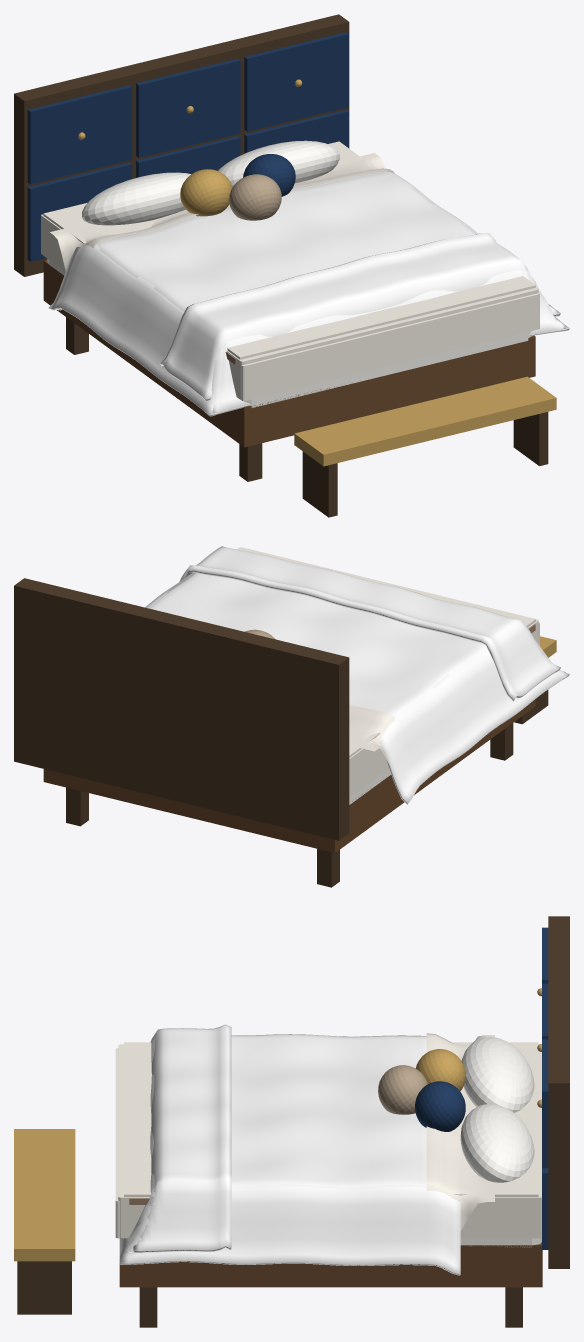
The model's file is bed.glb.
The picture shows the model from 3 angles, top to bottom: view 1: azimuth 30°, elevation 25°; view 2: azimuth 150°, elevation 25°; view 3: azimuth 270°, elevation 25°; orthographic projection. The views are drawn at different scales.
Visible parts, largest first — view 1: headboard, duvet, duvet_flap, bed_frame, fitted_sheet, bench, duvet_reverse, top_sheet, pillowcase_left, mattress, pillowcase_right, cushion_center (+2 smaller); view 2: headboard, duvet, duvet_flap, duvet_reverse, bed_frame, top_sheet, fitted_sheet, bench; view 3: duvet, duvet_reverse, duvet_flap, bed_frame, bench, top_sheet, headboard, fitted_sheet, pillowcase_right, pillowcase_left, cushion_right, cushion_center (+2 smaller).
Boxes of the visible parts, left/top/right/bottom form: headboard: left=14, top=14, right=349, bottom=276; duvet: left=56, top=172, right=565, bottom=413; duvet_flap: left=159, top=233, right=560, bottom=401; bed_frame: left=43, top=260, right=535, bottom=481; fitted_sheet: left=41, top=214, right=539, bottom=401; bench: left=294, top=376, right=556, bottom=517; duvet_reverse: left=48, top=171, right=569, bottom=416; top_sheet: left=43, top=141, right=535, bottom=359; pillowcase_left: left=82, top=172, right=191, bottom=225; mattress: left=47, top=259, right=531, bottom=407; pillowcase_right: left=218, top=140, right=339, bottom=187; cushion_center: left=229, top=174, right=281, bottom=220; headboard: left=14, top=578, right=349, bottom=840; duvet: left=149, top=572, right=565, bottom=716; duvet_flap: left=179, top=546, right=560, bottom=701; duvet_reverse: left=145, top=572, right=569, bottom=804; bed_frame: left=43, top=699, right=535, bottom=887; top_sheet: left=237, top=547, right=535, bottom=766; fitted_sheet: left=245, top=548, right=539, bottom=797; bench: left=514, top=636, right=556, bottom=724; duvet: left=120, top=1034, right=444, bottom=1269; duvet_reverse: left=119, top=1034, right=460, bottom=1275; duvet_flap: left=133, top=1024, right=231, bottom=1252; bed_frame: left=119, top=1242, right=542, bottom=1327; bench: left=14, top=1129, right=75, bottom=1314; top_sheet: left=124, top=1033, right=538, bottom=1230; headboard: left=537, top=916, right=569, bottom=1268; fitted_sheet: left=115, top=1044, right=541, bottom=1238; pillowcase_right: left=460, top=1104, right=534, bottom=1182; pillowcase_left: left=461, top=1037, right=534, bottom=1112; cushion_right: left=415, top=1081, right=465, bottom=1131; cushion_center: left=378, top=1065, right=427, bottom=1114.
Size of the model in its own units: 3.21 by 2.1 by 4.07.
